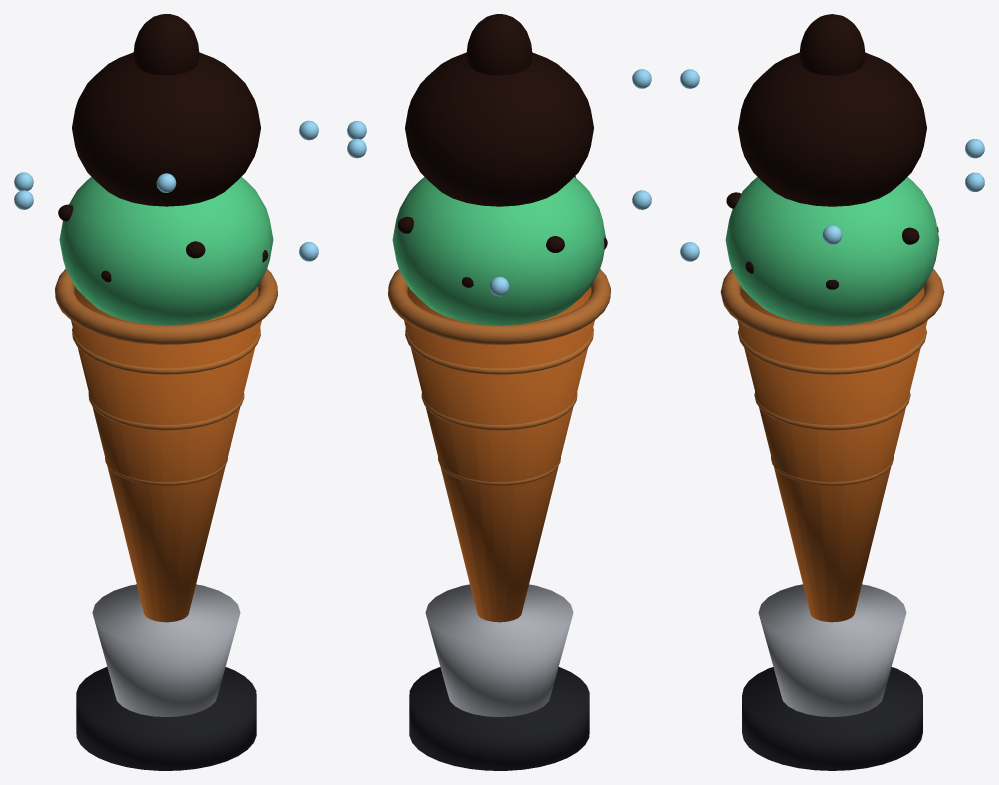
The model's file is BingChillingCone.fbx.
The picture shows the model from 3 angles, left to right: view 1: azimuth 30°, elevation 25°; view 2: azimuth 150°, elevation 25°; view 3: azimuth 270°, elevation 25°; orthographic projection.
Parts seen in each view (by area): view 1: BingChillingCone; view 2: BingChillingCone; view 3: BingChillingCone.
Part boxes in pixels (left/top/right/bottom): BingChillingCone: left=14, top=14, right=318, bottom=770; BingChillingCone: left=347, top=14, right=651, bottom=770; BingChillingCone: left=680, top=14, right=984, bottom=770.
Size of the model in its own units: 2.12 by 4.81 by 1.85.
1 material, 1 textured.
